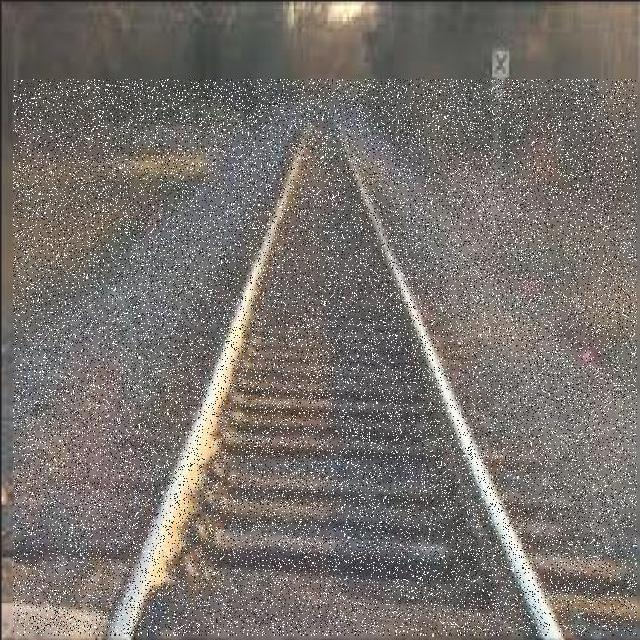rail: (14, 81, 638, 636)
